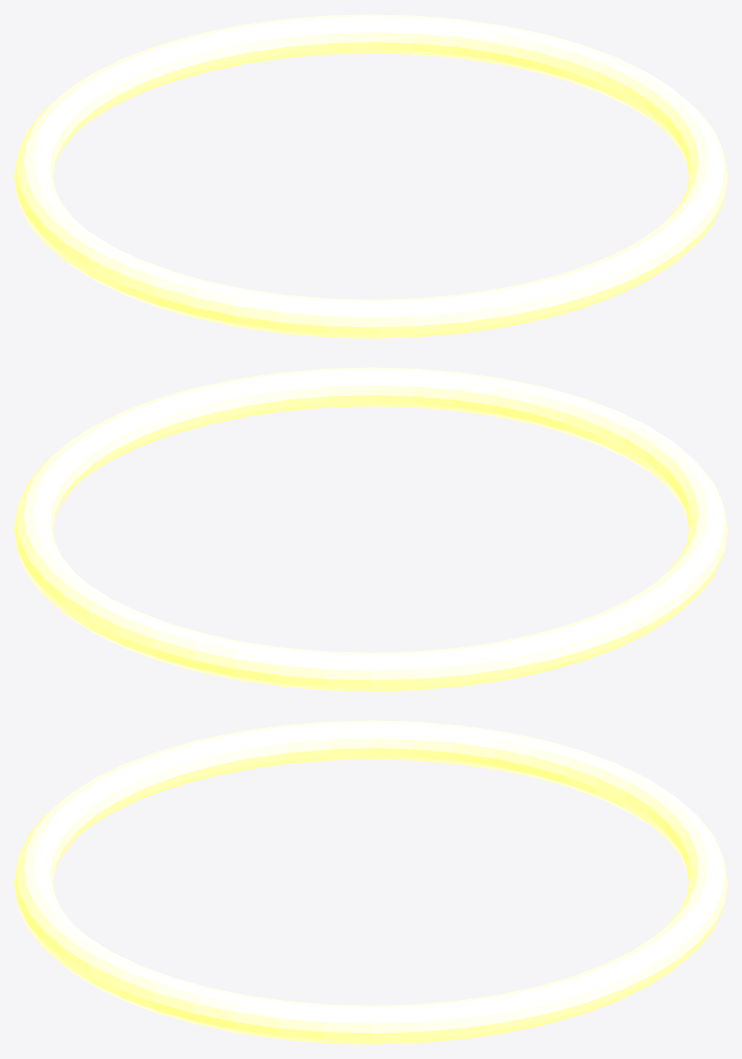
Rendered from hat_halo.glb.
3 views of the same model, one above another, from view 1: azimuth 30°, elevation 25°; view 2: azimuth 150°, elevation 25°; view 3: azimuth 270°, elevation 25° (orthographic).
Parts seen in each view (by area): view 1: Hatmodel; view 2: Hatmodel; view 3: Hatmodel.
Boxes of the visible parts, x1,y1,x2,y2 form: Hatmodel: (14,14,727,338); Hatmodel: (14,367,727,691); Hatmodel: (14,720,727,1044).
Size of the model in its own units: 4.02 by 0.22 by 4.02.
